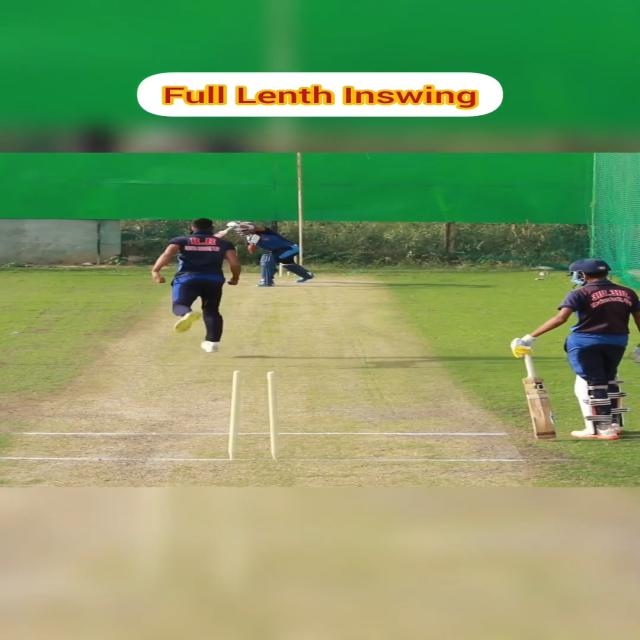stump: (226, 370, 282, 460)
